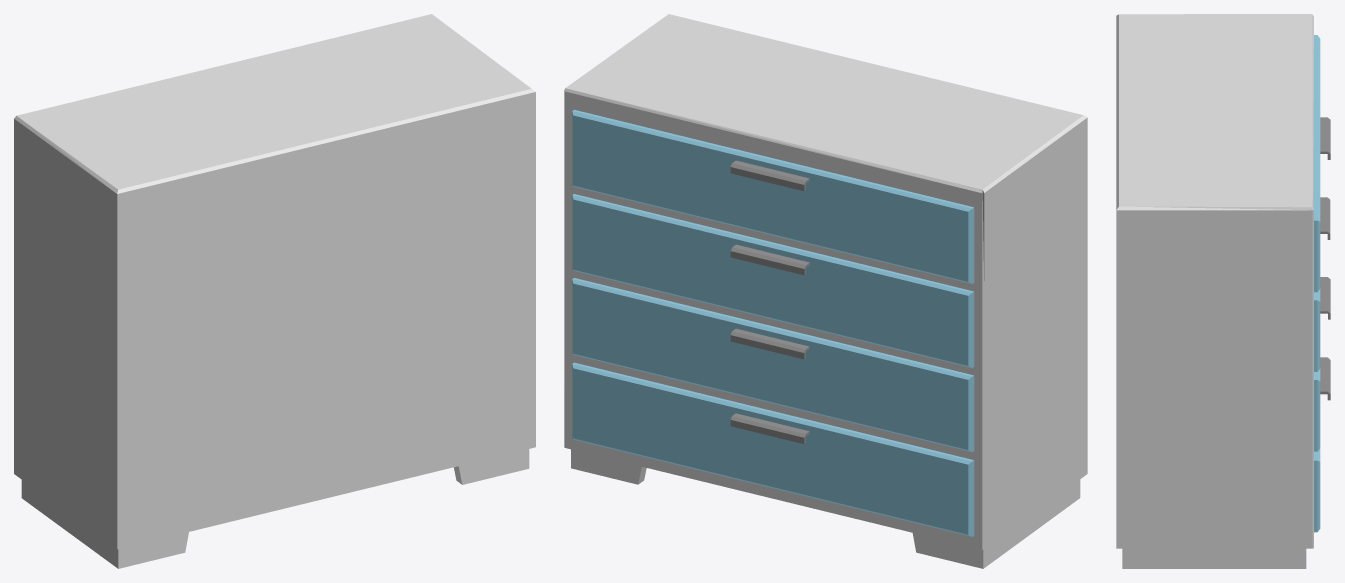
The model's file is FURNITURE_commode_01.FBX.
3 views of the same model, side by side, from view 1: azimuth 30°, elevation 25°; view 2: azimuth 150°, elevation 25°; view 3: azimuth 270°, elevation 25° (orthographic). The views are drawn at different scales.
Visible parts, largest first — view 1: FURNITURE_commode_01_base; view 2: FURNITURE_commode_01_base, FURNITURE_commode_01_drawer_03, FURNITURE_commode_01_drawer_04, FURNITURE_commode_01_drawer_01, FURNITURE_commode_01_drawer_02; view 3: FURNITURE_commode_01_base, FURNITURE_commode_01_drawer_01, FURNITURE_commode_01_drawer_04, FURNITURE_commode_01_drawer_02, FURNITURE_commode_01_drawer_03.
Part boxes in pixels (x1=…): FURNITURE_commode_01_base: x1=14, y1=14, x2=535, y2=568; FURNITURE_commode_01_base: x1=564, y1=14, x2=1087, y2=568; FURNITURE_commode_01_drawer_03: x1=572, y1=278, x2=974, y2=451; FURNITURE_commode_01_drawer_04: x1=572, y1=362, x2=974, y2=536; FURNITURE_commode_01_drawer_01: x1=572, y1=109, x2=974, y2=283; FURNITURE_commode_01_drawer_02: x1=572, y1=194, x2=974, y2=368; FURNITURE_commode_01_base: x1=1116, y1=14, x2=1313, y2=568; FURNITURE_commode_01_drawer_01: x1=1314, y1=35, x2=1330, y2=292; FURNITURE_commode_01_drawer_04: x1=1314, y1=357, x2=1330, y2=532; FURNITURE_commode_01_drawer_02: x1=1314, y1=197, x2=1330, y2=371; FURNITURE_commode_01_drawer_03: x1=1314, y1=277, x2=1330, y2=451.
Size of the model in its own units: 164 by 142 by 76.11.
